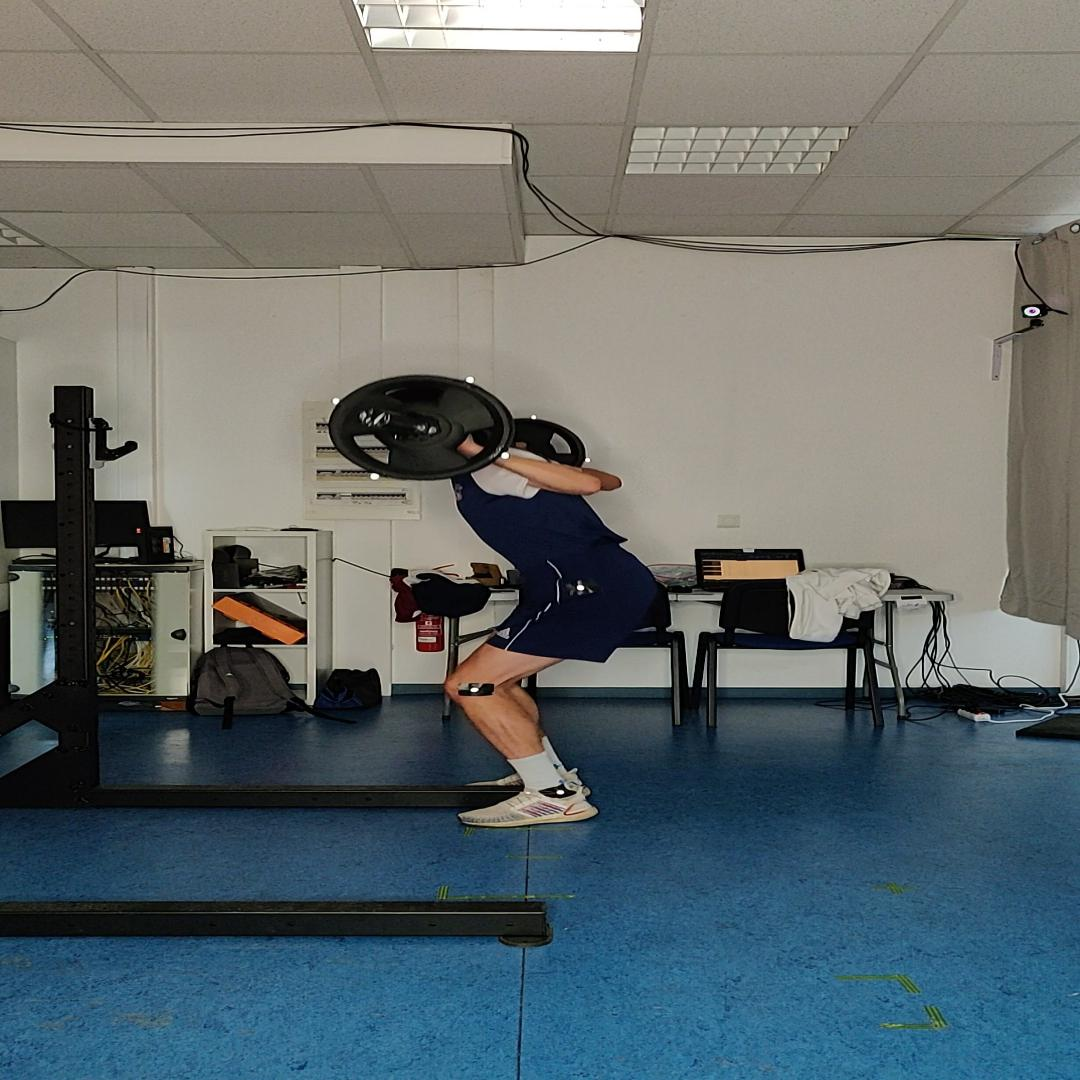Bar: (359, 408, 392, 428)
Barbell: (328, 375, 516, 480)
